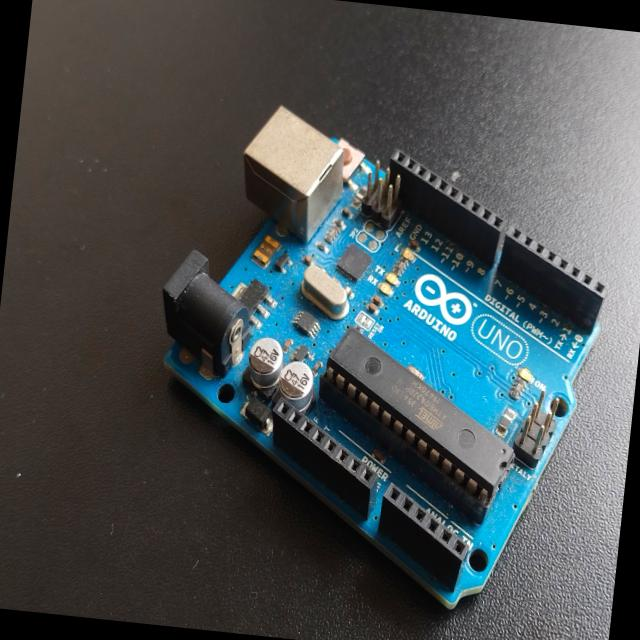arduino: (119, 75, 627, 634)
